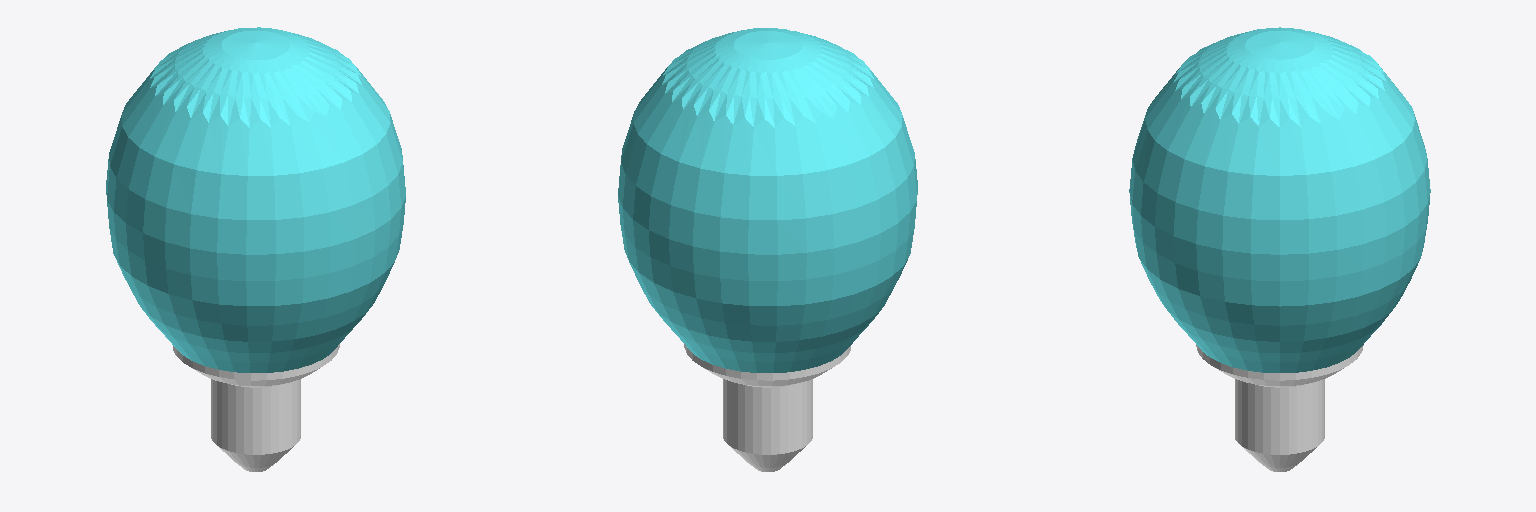
The model's file is lightbulb.obj.
The picture shows the model from 3 angles: view 1: azimuth 30°, elevation 25°; view 2: azimuth 150°, elevation 25°; view 3: azimuth 270°, elevation 25°; orthographic projection.
Parts seen in each view (by area): view 1: Sphere, Culot; view 2: Sphere, Culot; view 3: Sphere, Culot.
Boxes of the visible parts, box(x1,y1,x2,y2) form: Sphere: box(106, 27, 405, 372); Culot: box(173, 344, 339, 471); Sphere: box(618, 28, 917, 372); Culot: box(684, 344, 850, 471); Sphere: box(1129, 27, 1430, 372); Culot: box(1196, 345, 1363, 471).
Size of the model in its own units: 0.0899 by 0.1408 by 0.0901.